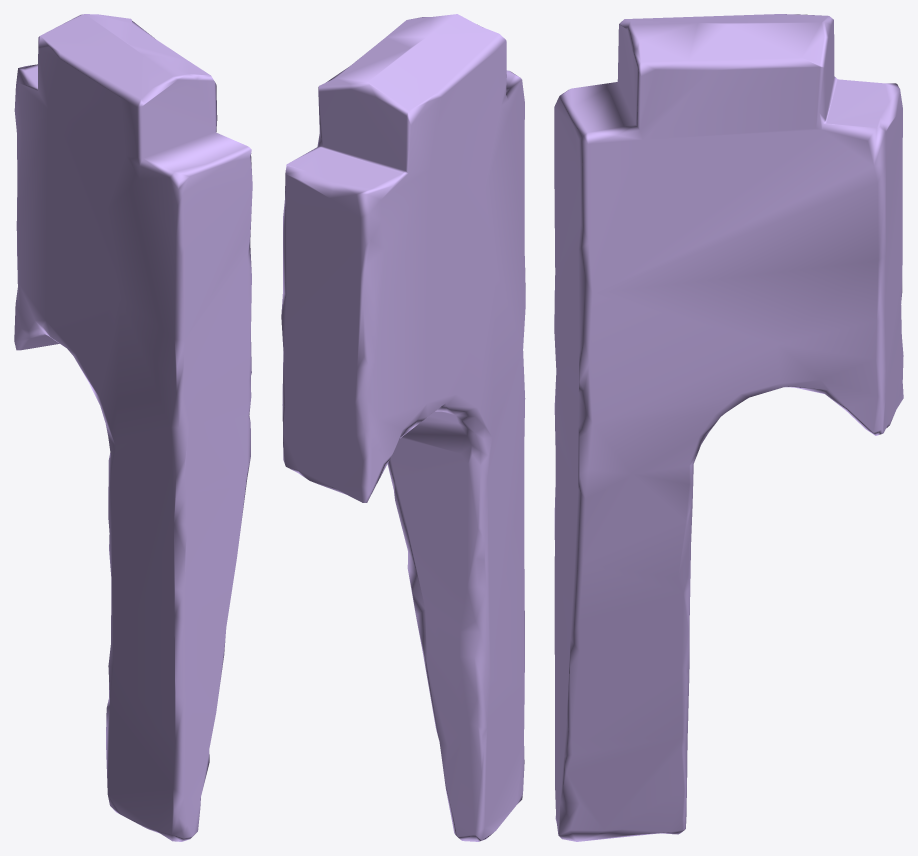
The model's file is krangstein_l_ver1_LOD2.fbx.
The picture shows the model from 3 angles, left to right: view 1: azimuth 30°, elevation 25°; view 2: azimuth 150°, elevation 25°; view 3: azimuth 270°, elevation 25°; orthographic projection. The views are drawn at different scales.
Visible parts, largest first — view 1: Cube_064lod2; view 2: Cube_064lod2; view 3: Cube_064lod2.
Part boxes in pixels (x1,y1,x2,y2): Cube_064lod2: (14,14,252,841); Cube_064lod2: (281,14,525,841); Cube_064lod2: (554,14,903,841).
Bounding box in the file's own units: 28.6 × 186 × 71.48.
